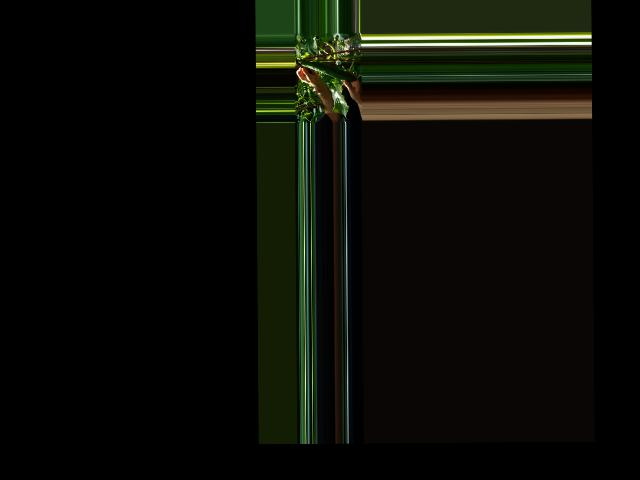cucumber: (301, 60, 356, 82)
